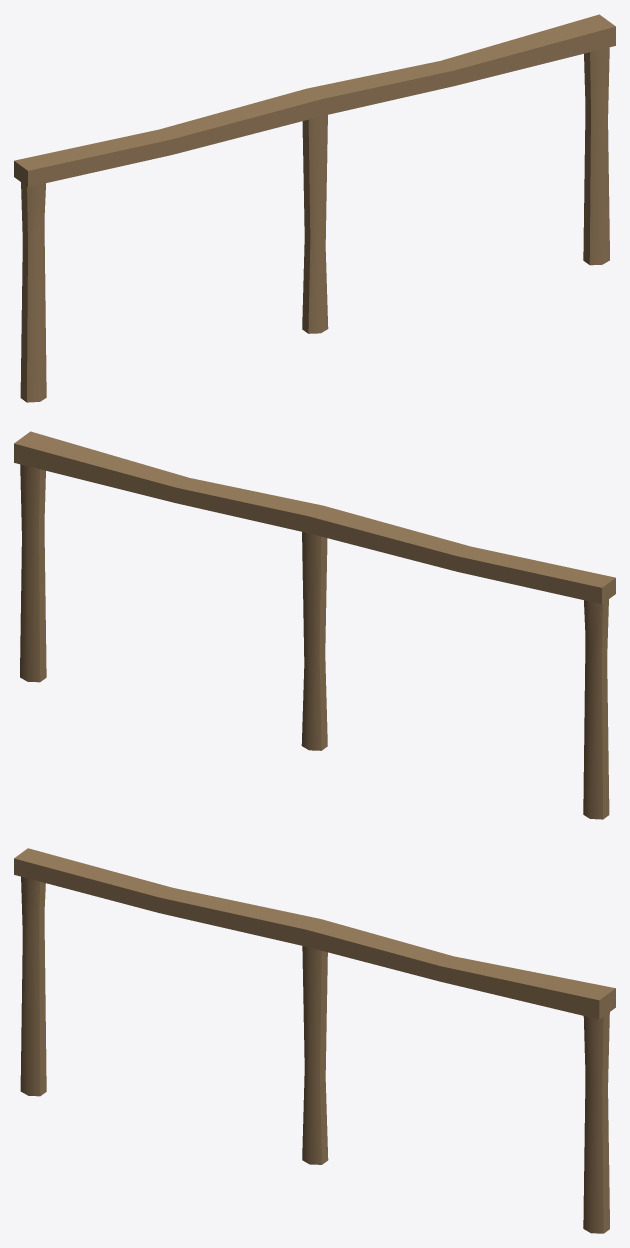
File: SM_Bld_Rail_01.fbx
3 renders of one model, top to bottom at view 1: azimuth 30°, elevation 25°; view 2: azimuth 150°, elevation 25°; view 3: azimuth 330°, elevation 25°, orthographic.
Visible parts, largest first — view 1: SM_Bld_Rail_01; view 2: SM_Bld_Rail_01; view 3: SM_Bld_Rail_01.
Boxes of the visible parts, x1,y1,x2,y2 form: SM_Bld_Rail_01: (14, 14, 615, 402); SM_Bld_Rail_01: (14, 431, 615, 819); SM_Bld_Rail_01: (14, 848, 615, 1233).
Bounding box in the file's own units: 260 × 101 × 12.71.
